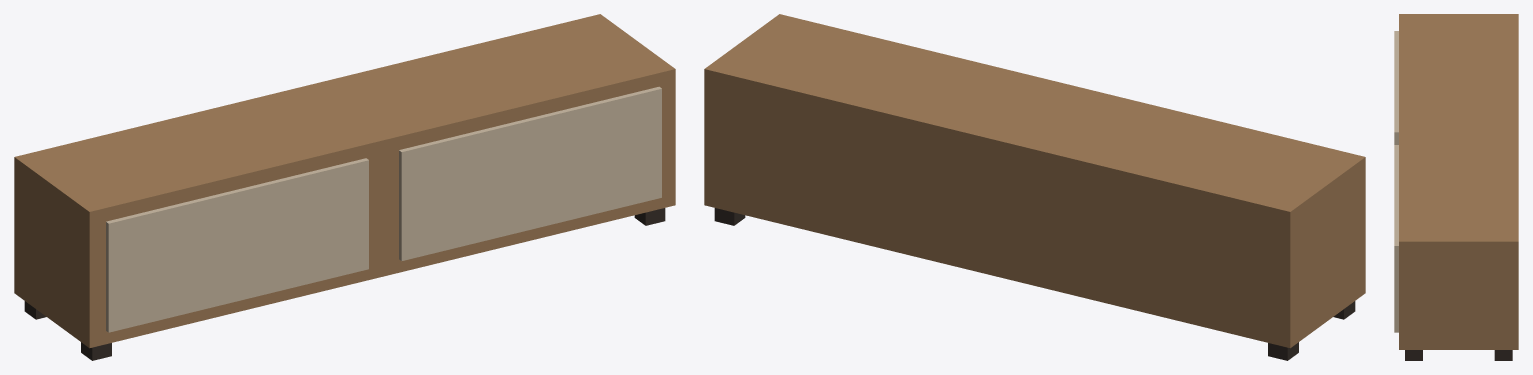
File: tv_stand.glb
The picture shows the model from 3 angles, left to right: view 1: azimuth 30°, elevation 25°; view 2: azimuth 150°, elevation 25°; view 3: azimuth 270°, elevation 25°; orthographic projection. The views are drawn at different scales.
Visible parts, largest first — view 1: tv_stand; view 2: tv_stand; view 3: tv_stand.
Part boxes in pixels (x1,y1,x2,y2): tv_stand: (14, 14, 675, 360); tv_stand: (704, 14, 1365, 360); tv_stand: (1394, 14, 1518, 360).
Size of the model in its own units: 1.8 by 0.45 by 0.415.
